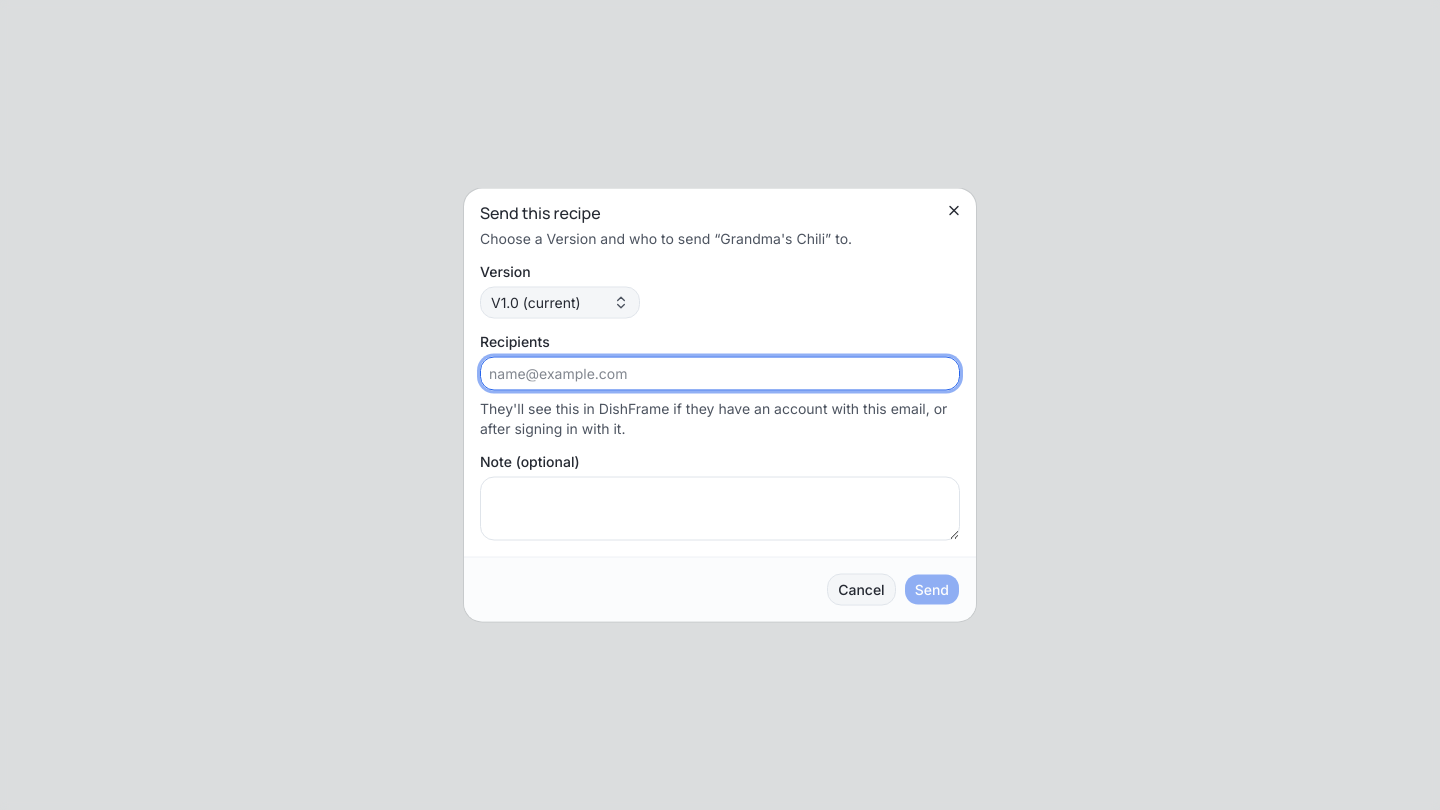
DirectShareSingleItemDialog › on operation-level failure, keeps the modal open and shows an error toast
The image size is (1440, 810).
Type "friend@example.invalid" into the field labelled "Recipients" at x=720, y=374, box [489,364,951,384]
Then press Enter
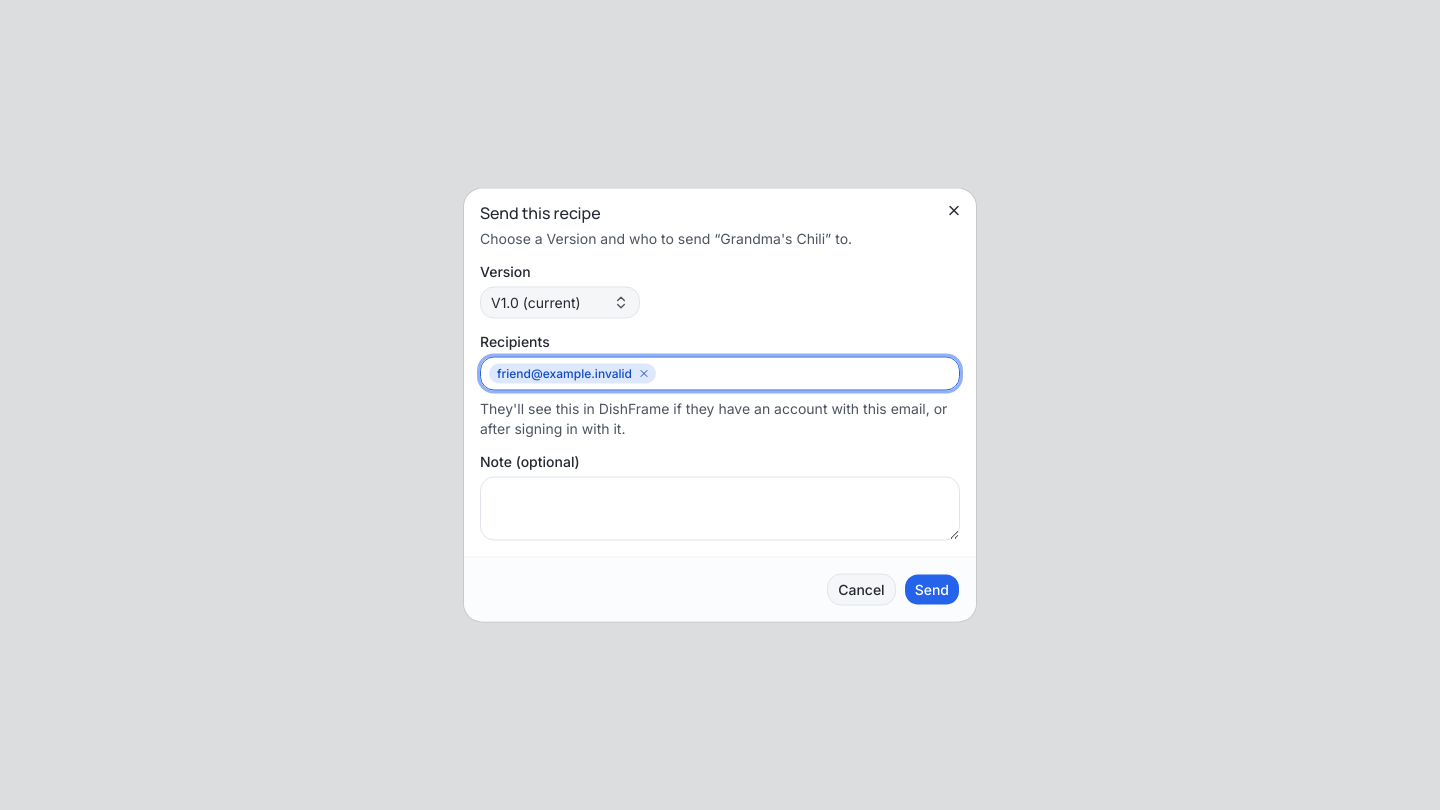
Click the button "Send" at x=932, y=590, box [904,574,960,606]
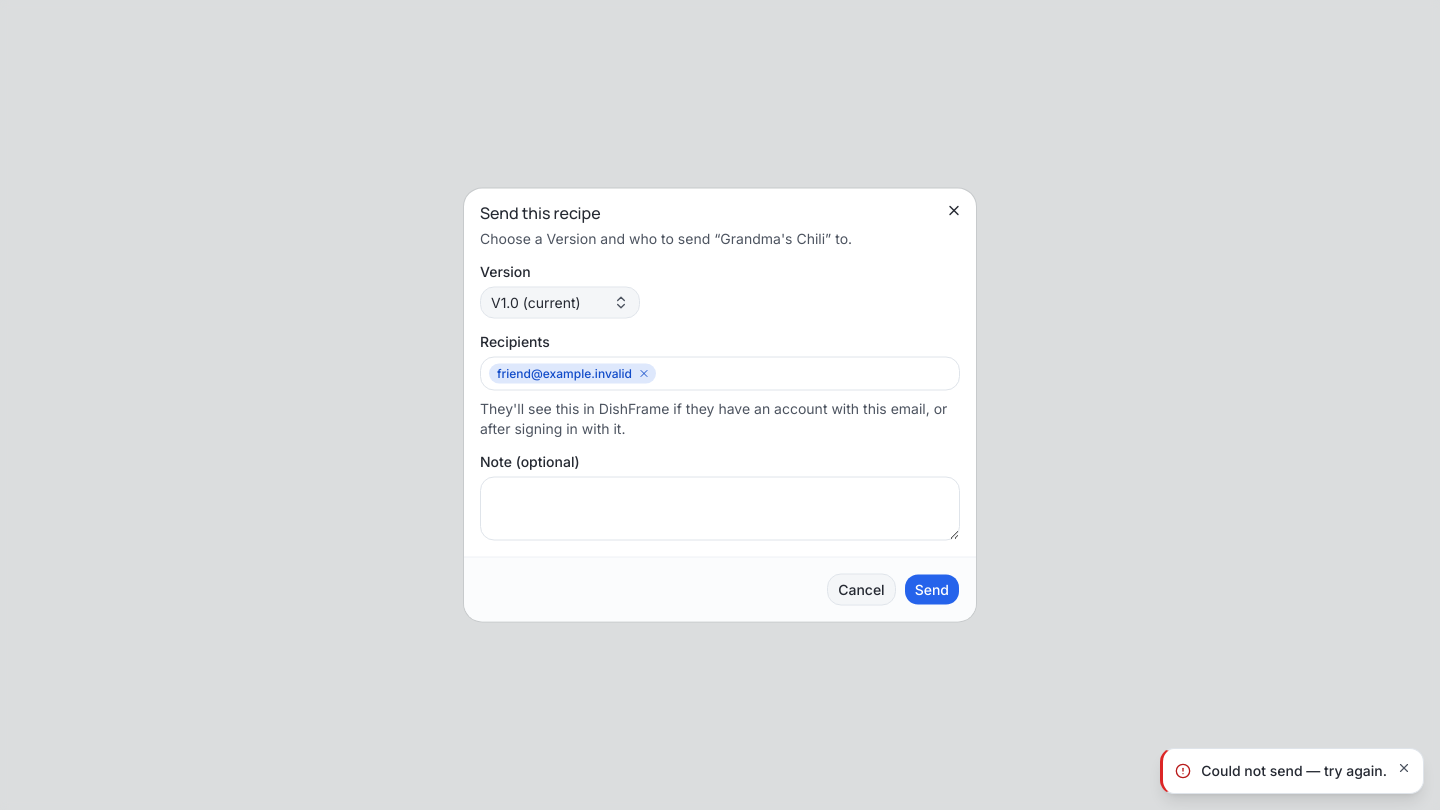
Expected: the text "Could not send — try again." is shown, [1201,761,1387,781]
